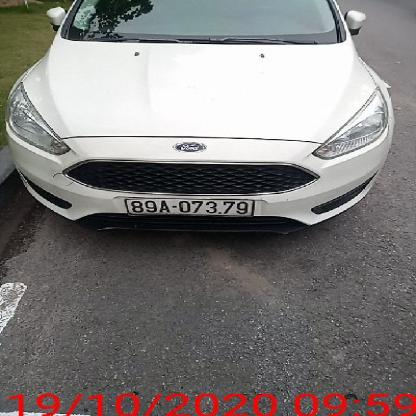biensoxe: (123, 192, 255, 221)
